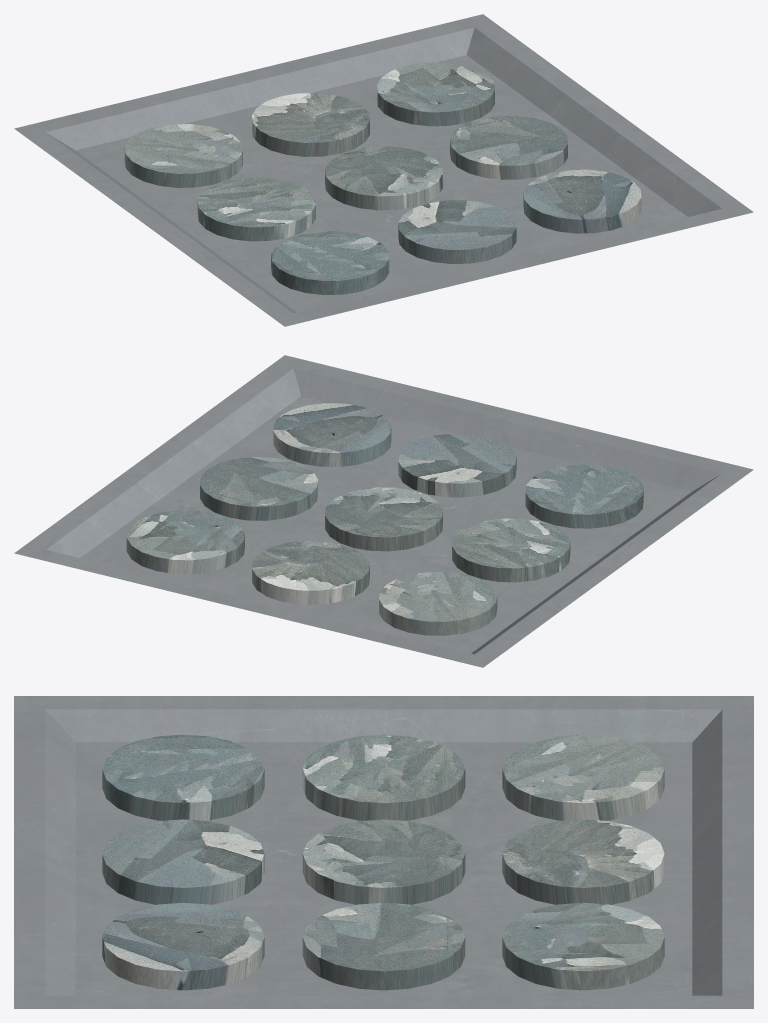
The model's file is StreetFloor_1.fbx.
3 views of the same model, one above another, from view 1: azimuth 30°, elevation 25°; view 2: azimuth 150°, elevation 25°; view 3: azimuth 270°, elevation 25° (orthographic). The views are drawn at different scales.
Parts seen in each view (by area): view 1: pPlane2; view 2: pPlane2; view 3: pPlane2.
Boxes of the visible parts, x1,y1,x2,y2 form: pPlane2: (14,14,753,326); pPlane2: (14,355,753,667); pPlane2: (14,696,753,1008).
Bounding box in the file's own units: 3 × 0.1008 × 3.
